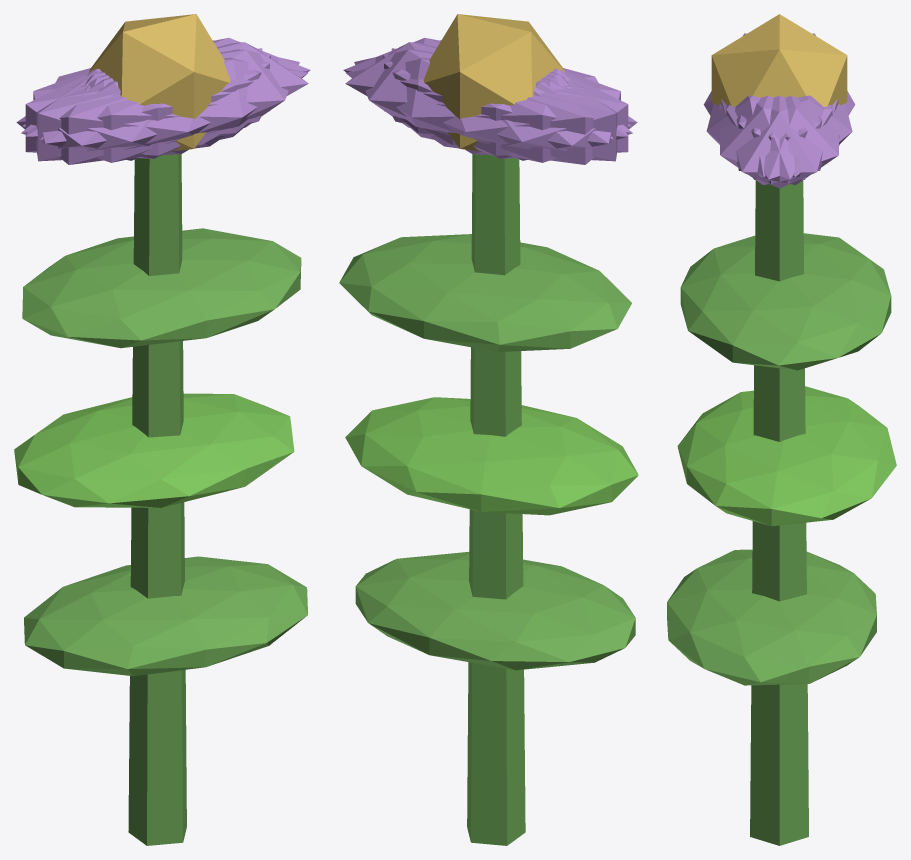
Rendered from pipturus-arborescens.glb.
3 views of the same model, side by side, from view 1: azimuth 30°, elevation 25°; view 2: azimuth 150°, elevation 25°; view 3: azimuth 270°, elevation 25° (orthographic).
Visible parts, largest first — view 1: stem, leaf0, leaf2, leaf1, center, petal1, petal6, petal2, petal5, petal7, petal0, petal4 (+2 smaller); view 2: stem, leaf1, leaf2, leaf0, center, petal8, petal3, petal7, petal4, petal2, petal0, petal5 (+2 smaller); view 3: stem, leaf2, leaf1, leaf0, center, petal0, petal4, petal5, petal8, petal1.
Part boxes in pixels (<box>): stem: <box>128,154,186,845</box>; leaf0: <box>24,556,307,676</box>; leaf2: <box>22,228,301,348</box>; leaf1: <box>14,393,294,507</box>; center: <box>89,14,230,151</box>; petal1: <box>21,57,307,162</box>; petal6: <box>16,70,224,164</box>; petal2: <box>36,48,262,161</box>; petal5: <box>40,49,299,155</box>; petal7: <box>25,54,270,158</box>; petal0: <box>88,42,308,145</box>; petal4: <box>22,38,310,136</box>; stem: <box>467,154,525,845</box>; leaf1: <box>345,397,638,515</box>; leaf2: <box>339,234,631,351</box>; leaf0: <box>355,552,635,670</box>; center: <box>423,14,564,151</box>; petal8: <box>346,57,632,162</box>; petal3: <box>430,70,637,164</box>; petal7: <box>391,48,617,161</box>; petal4: <box>354,49,613,155</box>; petal2: <box>383,54,628,158</box>; petal0: <box>345,42,565,145</box>; petal5: <box>343,38,631,136</box>; stem: <box>750,180,808,845</box>; leaf2: <box>680,233,891,370</box>; leaf1: <box>677,386,896,526</box>; leaf0: <box>667,549,876,685</box>; center: <box>711,14,847,106</box>; petal0: <box>721,96,837,188</box>; petal4: <box>726,96,839,184</box>; petal5: <box>719,96,832,184</box>; petal8: <box>736,95,852,176</box>; petal1: <box>706,95,822,176</box>.
Size of the model in its own units: 0.1452 by 0.3985 by 0.1036.
